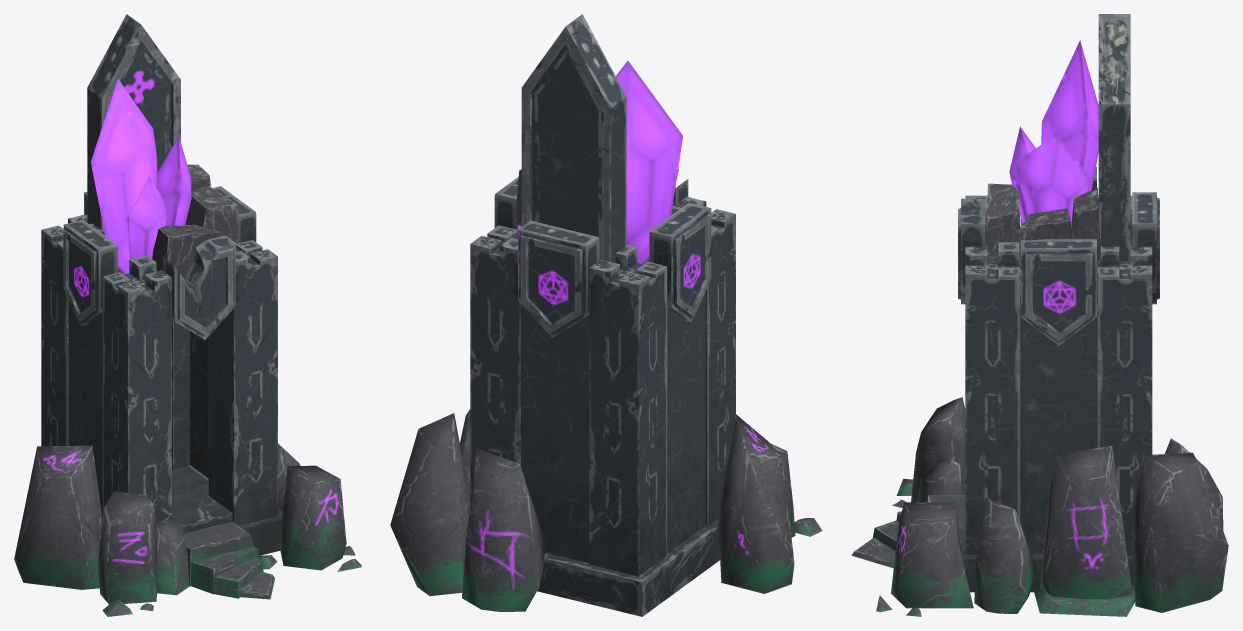
The picture shows the model from 3 angles, left to right: view 1: azimuth 30°, elevation 25°; view 2: azimuth 150°, elevation 25°; view 3: azimuth 270°, elevation 25°; orthographic projection. The views are drawn at different scales.
Parts seen in each view (by area): view 1: Columns_LP, Rocks_1_LP, Rocks_2_LP, Wall_high_LP, Crystal_1_LP, Stair_LP, Romb_broken_LP, Wall_outer_1_LP.002, Rocks_above_LP, Romb_1_LP.002, Floor_LP, Wall_inner_1_LP (+4 smaller); view 2: Columns_LP, Wall_high_LP, Wall_outer_1_LP.001, Rocks_2_LP, Rocks_1_LP, Rocks_3_LP, Wall_outer_1_LP.002, Crystal_1_LP, Platform_LP, Romb_1_LP.001, Romb_1_LP.002, Romb_1_LP; view 3: Columns_LP, Rocks_2_LP, Rocks_3_LP, Wall_outer_1_LP, Rocks_1_LP, Wall_high_LP, Romb_1_LP, Rocks_above_LP, Crystal_1_LP, Crystal_2_LP, Romb_1_LP.001, Stair_LP (+3 smaller).
Part boxes in pixels (<box>): Columns_LP: <box>41,214,277,525</box>; Rocks_1_LP: <box>14,443,361,616</box>; Rocks_2_LP: <box>97,465,346,604</box>; Wall_high_LP: <box>87,14,180,230</box>; Crystal_1_LP: <box>91,79,157,273</box>; Stair_LP: <box>183,522,274,599</box>; Romb_broken_LP: <box>163,236,235,339</box>; Wall_outer_1_LP.002: <box>68,300,102,519</box>; Rocks_above_LP: <box>152,164,239,278</box>; Romb_1_LP.002: <box>63,220,118,325</box>; Floor_LP: <box>172,465,232,533</box>; Wall_inner_1_LP: <box>190,331,208,478</box>; Columns_LP: <box>470,196,735,576</box>; Wall_high_LP: <box>521,14,626,263</box>; Wall_outer_1_LP.001: <box>520,303,589,563</box>; Rocks_2_LP: <box>460,409,795,611</box>; Rocks_1_LP: <box>718,414,822,593</box>; Rocks_3_LP: <box>390,413,470,595</box>; Wall_outer_1_LP.002: <box>667,292,705,553</box>; Crystal_1_LP: <box>616,60,682,263</box>; Platform_LP: <box>537,518,719,616</box>; Romb_1_LP.001: <box>518,220,599,337</box>; Romb_1_LP.002: <box>649,202,711,321</box>; Romb_1_LP: <box>494,177,521,229</box>; Columns_LP: <box>965,195,1152,554</box>; Rocks_2_LP: <box>891,397,1223,608</box>; Rocks_3_LP: <box>1132,452,1228,612</box>; Wall_outer_1_LP: <box>1020,304,1097,553</box>; Rocks_1_LP: <box>876,456,1135,616</box>; Wall_high_LP: <box>1098,14,1130,261</box>; Romb_1_LP: <box>1021,239,1096,345</box>; Rocks_above_LP: <box>986,183,1100,297</box>; Crystal_1_LP: <box>1041,40,1098,191</box>; Crystal_2_LP: <box>1015,133,1091,228</box>; Romb_1_LP.001: <box>1132,192,1159,304</box>; Stair_LP: <box>851,495,965,568</box>.
Bounding box in the file's own units: 5.18 × 8.48 × 5.41.
1 material, 1 textured.
